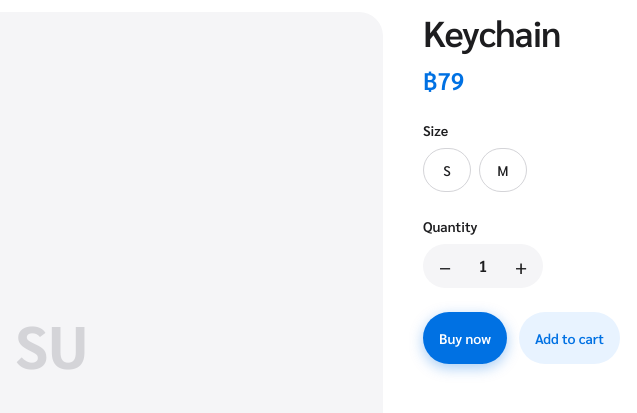
Test: BuyBar feedback › shows the choose-an-option notice inside the buy bar
The width and height of the screenshot is (637, 413).
Click the button "Add to cart" at (569, 338), box top-left (519, 312), bottom-right (620, 364)
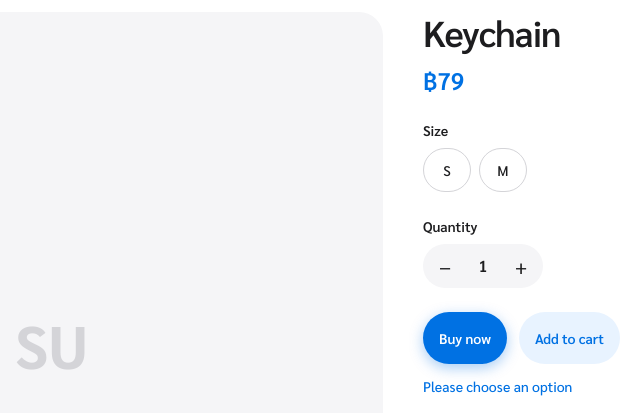
Check: the message "Please choose an option" is shown, box top-left (423, 377), bottom-right (572, 395)
